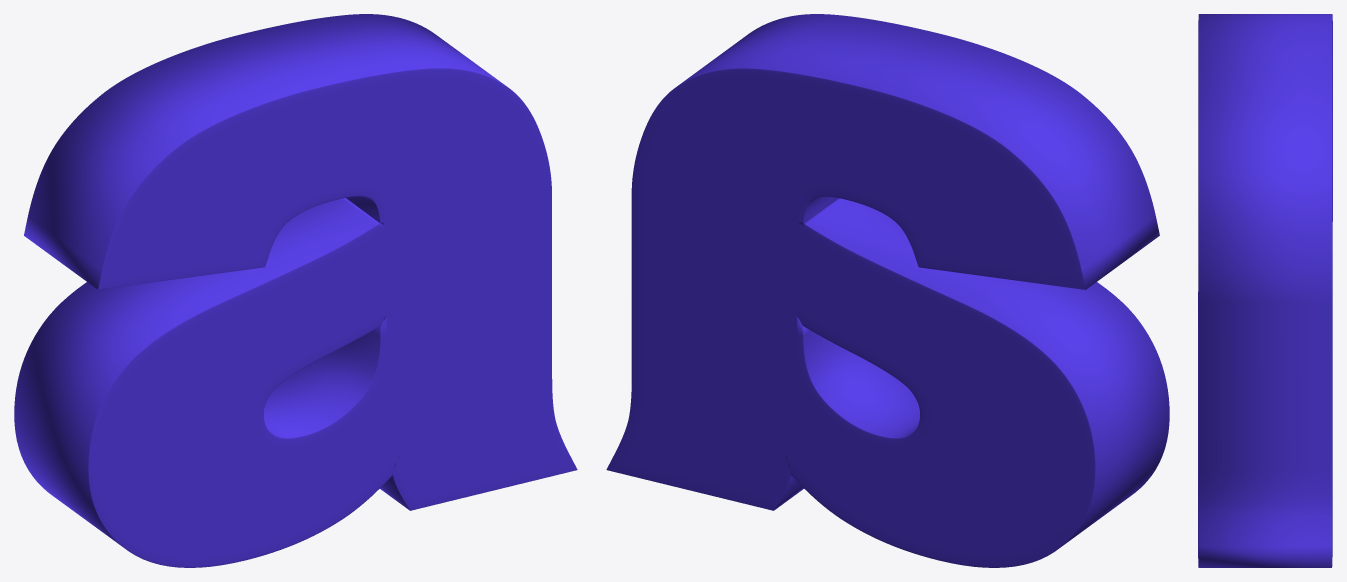
File: vocal_a.glb
3 renders of one model, left to right at view 1: azimuth 30°, elevation 25°; view 2: azimuth 150°, elevation 25°; view 3: azimuth 270°, elevation 25°, orthographic. The views are drawn at different scales.
Visible parts, largest first — view 1: Text; view 2: Text; view 3: Text.
Part boxes in pixels (x1=…): Text: x1=14, y1=14, x2=577, y2=567; Text: x1=606, y1=14, x2=1169, y2=567; Text: x1=1198, y1=14, x2=1332, y2=567.
Bounding box in the file's own units: 0.4498 × 0.3995 × 0.1192.
